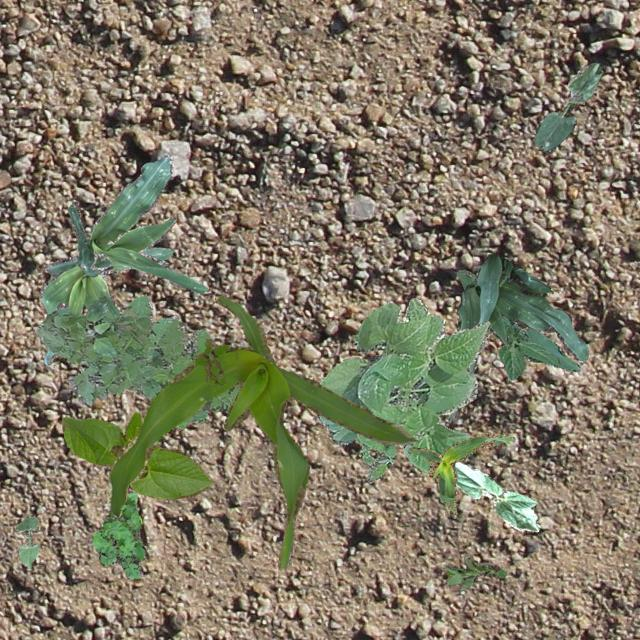crop: (105, 294, 418, 568), (316, 296, 490, 472), (448, 252, 588, 422), (67, 152, 206, 292), (40, 246, 172, 364), (456, 268, 578, 378), (60, 412, 212, 498), (408, 432, 514, 518), (534, 61, 602, 152), (454, 460, 540, 530), (14, 514, 38, 566)
weed: (36, 294, 240, 422), (90, 492, 146, 578), (76, 296, 116, 356), (440, 554, 506, 588), (192, 338, 228, 384), (358, 444, 394, 482), (170, 420, 186, 430)
